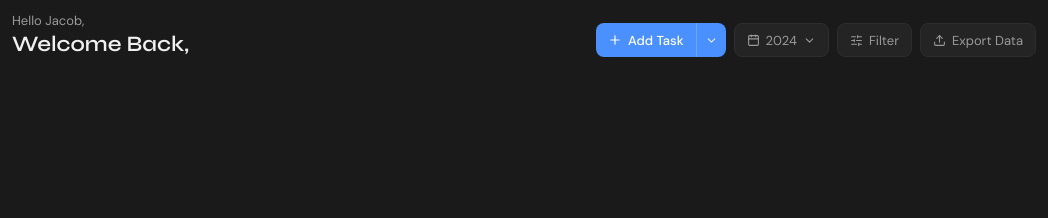
DashboardHeader › switches the active year label when a year is picked from the dropdown
The image size is (1048, 218).
Click the button "2024".
click(781, 40)  # box [734, 23, 829, 57]
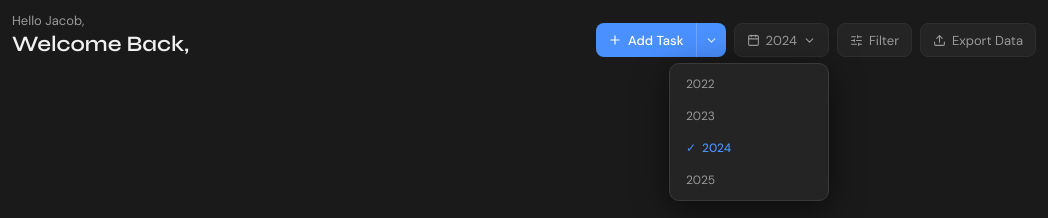
Click the menu item "2023".
click(700, 116)  # box [686, 108, 715, 124]
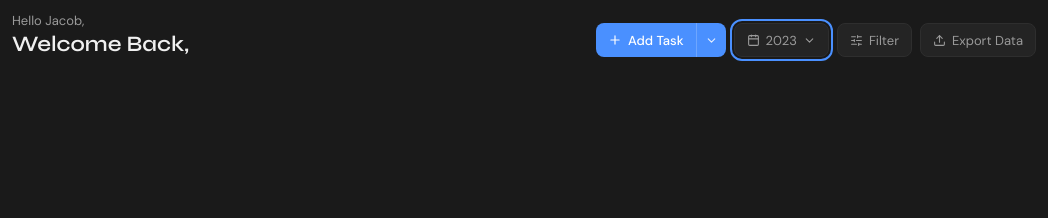
Check: the button "2023" is shown, box [734, 23, 829, 57]
